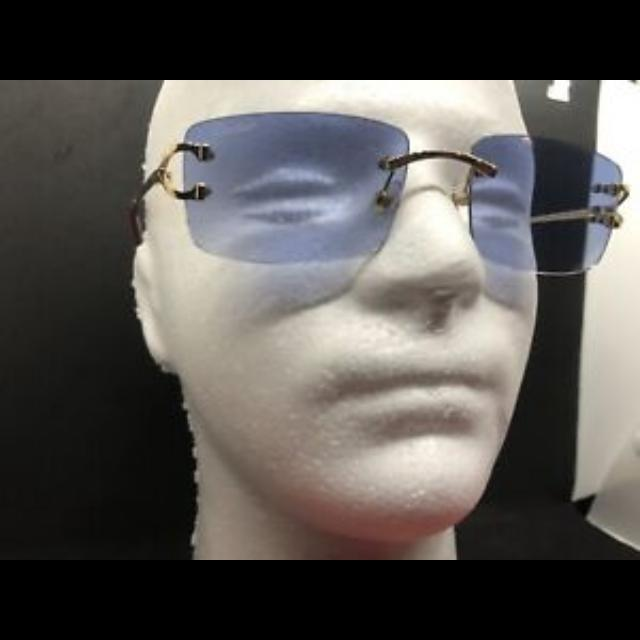sunglasses: (118, 111, 636, 283)
